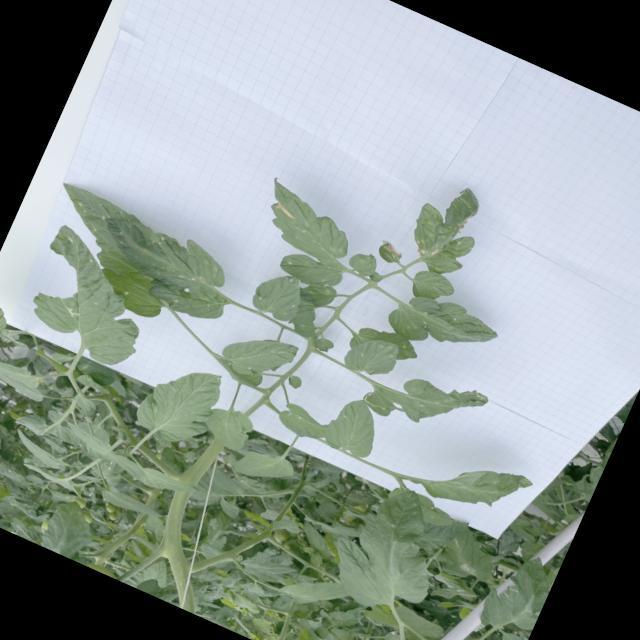Tomato healthy leaf: (316, 470, 464, 628), (418, 439, 536, 533), (130, 349, 228, 454), (216, 320, 300, 392), (320, 391, 390, 463), (37, 494, 104, 564), (277, 563, 352, 621), (232, 440, 300, 495), (197, 399, 258, 456), (188, 461, 248, 517), (7, 428, 73, 473), (137, 463, 202, 507), (98, 484, 166, 526), (406, 264, 459, 312), (238, 547, 297, 587), (0, 340, 43, 390), (61, 421, 117, 458), (0, 370, 47, 404), (296, 522, 334, 554), (75, 372, 114, 398), (216, 498, 242, 521), (72, 394, 98, 416)
Tomato target spot leaf: (358, 350, 492, 456), (475, 543, 561, 640), (433, 523, 505, 591), (59, 300, 88, 326)
